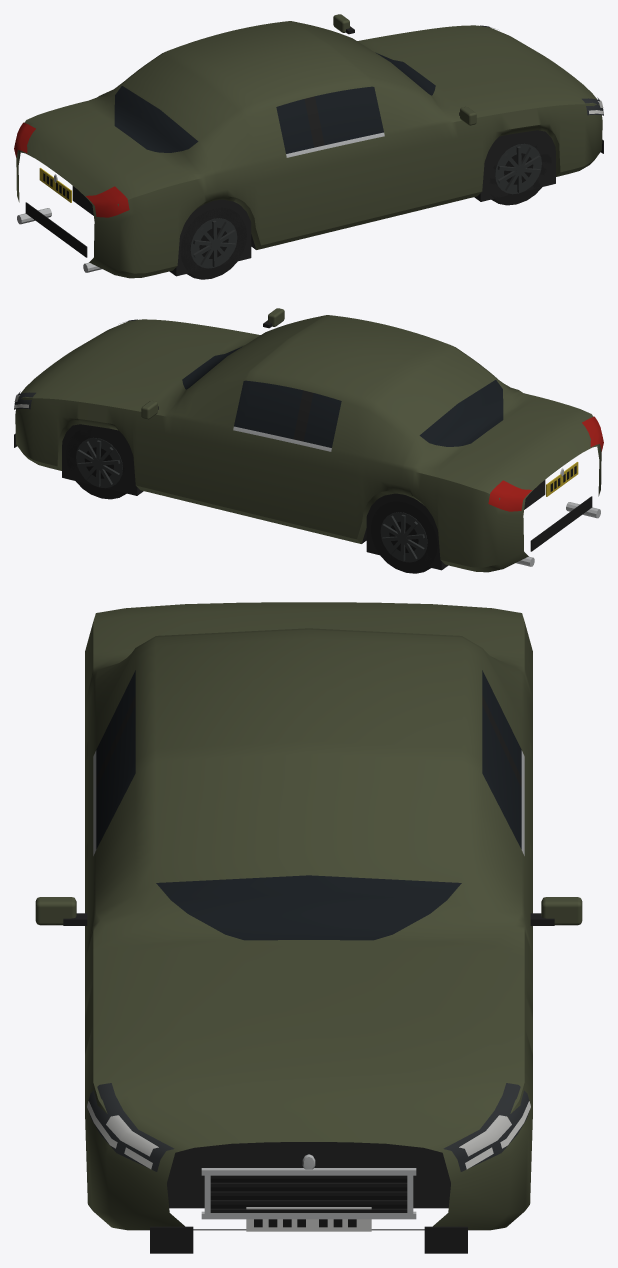
Rendered from SM_Prop_parked_car_106.glb.
3 views of the same model, one above another, from view 1: azimuth 30°, elevation 25°; view 2: azimuth 150°, elevation 25°; view 3: azimuth 270°, elevation 25° (orthographic). The views are drawn at different scales.
Parts seen in each view (by area): view 1: SM_Prop_parked_car_106; view 2: SM_Prop_parked_car_106; view 3: SM_Prop_parked_car_106.
Boxes of the visible parts, x1=… form: SM_Prop_parked_car_106: x1=14, y1=14, x2=603, y2=279; SM_Prop_parked_car_106: x1=14, y1=308, x2=603, y2=573; SM_Prop_parked_car_106: x1=35, y1=602, x2=582, y2=1253.
Size of the model in its own units: 4.93 by 1.47 by 2.27.
